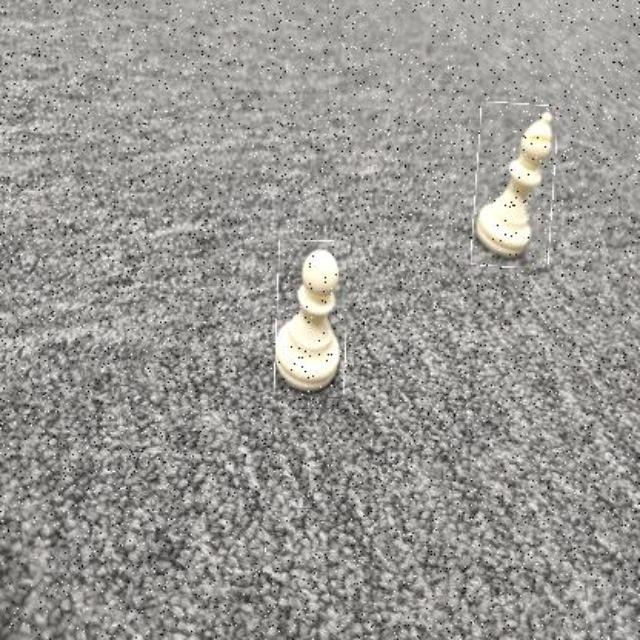white-bishop: (473, 104, 556, 268)
white-pawn: (276, 240, 348, 395)
